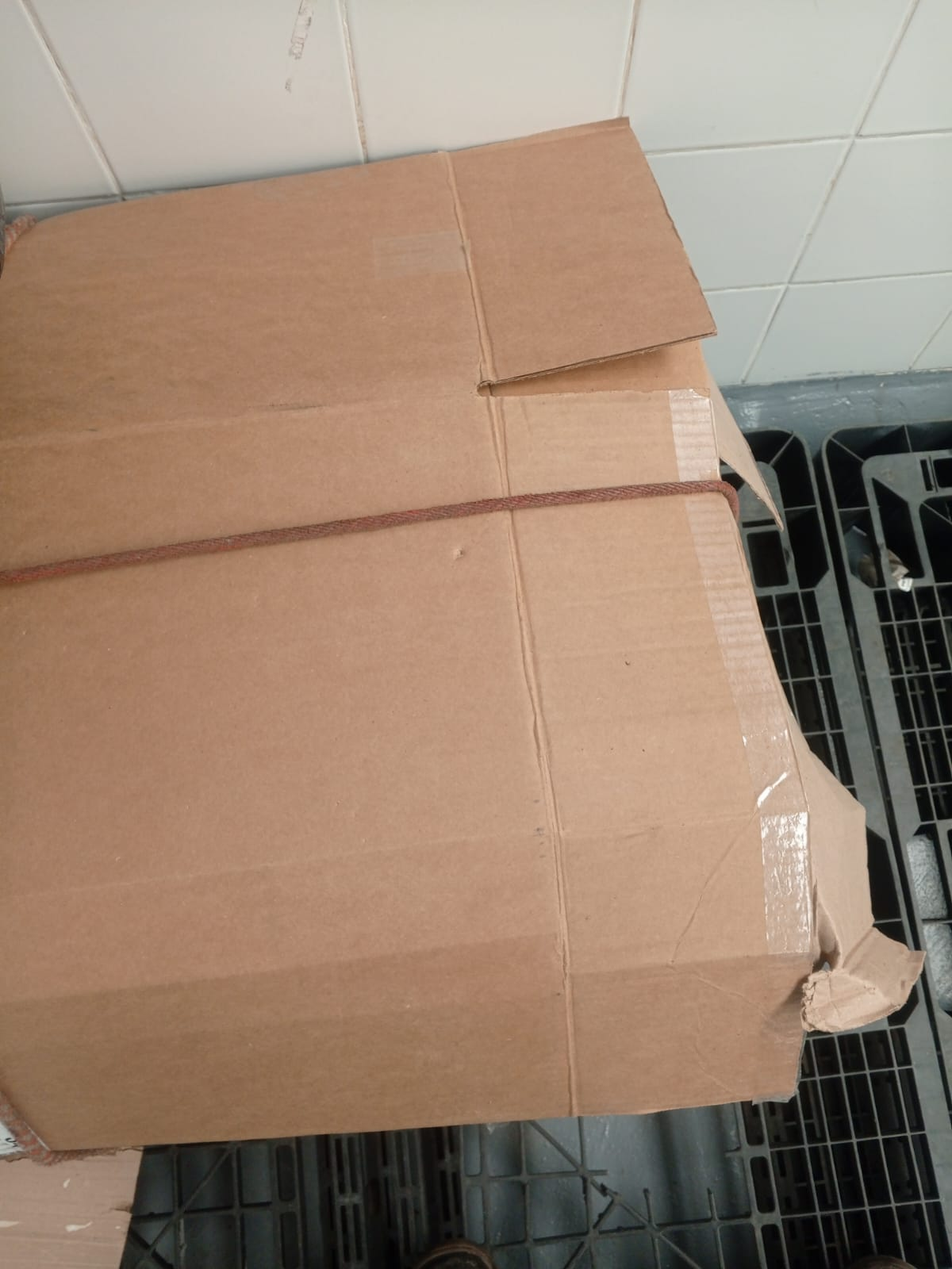Carton: (0, 115, 919, 1152)
